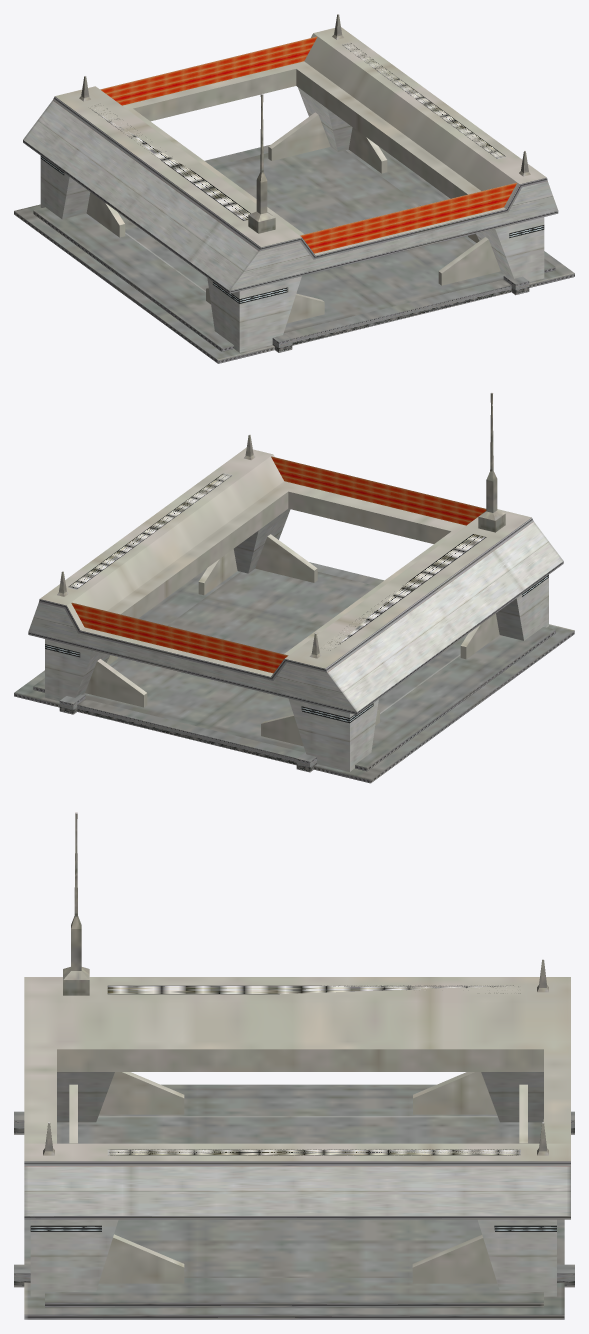
The model's file is mun_corl_shuttleport_s01_l2.fbx.
3 renders of one model, top to bottom at view 1: azimuth 30°, elevation 25°; view 2: azimuth 150°, elevation 25°; view 3: azimuth 270°, elevation 25°, orthographic. The views are drawn at different scales.
Visible parts, largest first — view 1: mesh_node; view 2: mesh_node; view 3: mesh_node.
Part boxes in pixels (box(x1,y1,x2,y2)): mesh_node: box(14, 14, 574, 363); mesh_node: box(14, 392, 574, 783); mesh_node: box(14, 812, 574, 1319).
Size of the model in its own units: 31.47 by 20.21 by 32.4.
2 materials, 2 textured.
